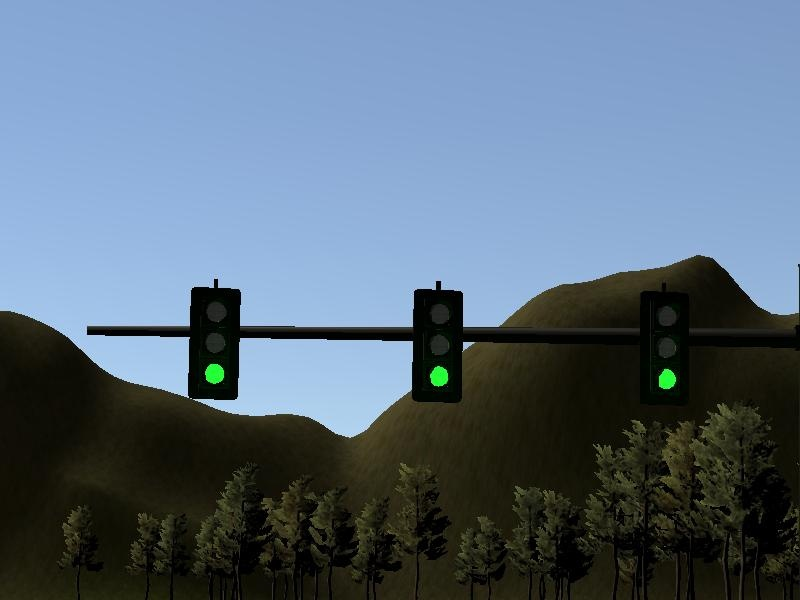GREEN: (412, 290, 462, 402), (189, 287, 239, 399), (641, 292, 690, 399)
